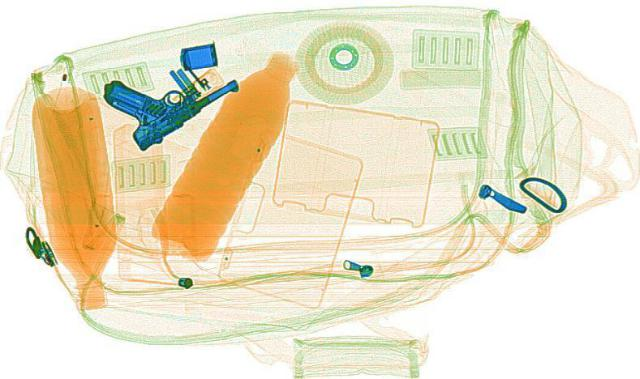Gun: (64, 45, 255, 148)
